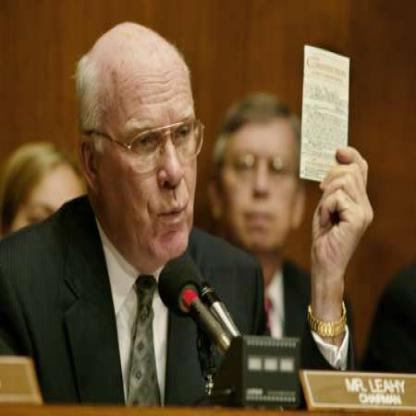face: (95, 29, 212, 267), (220, 96, 300, 259)
